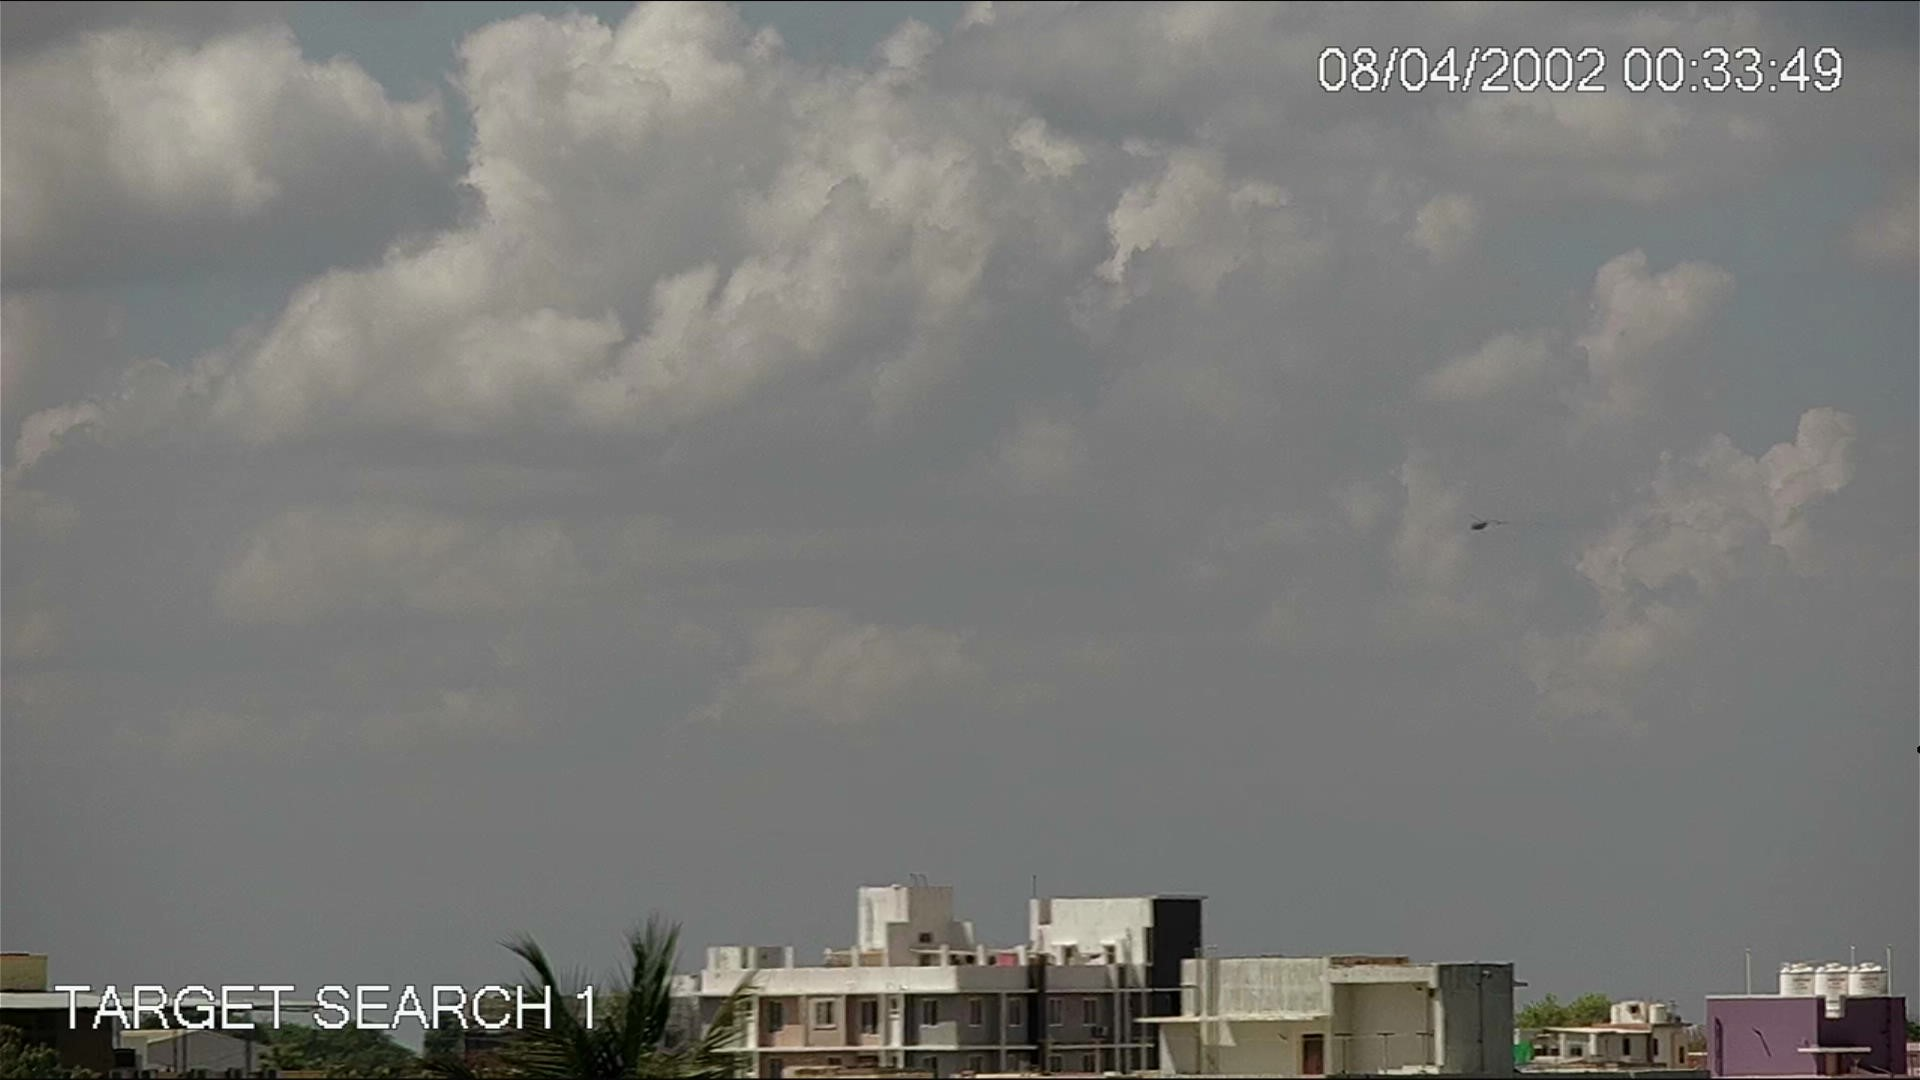SU_30: (1469, 512, 1505, 535)
